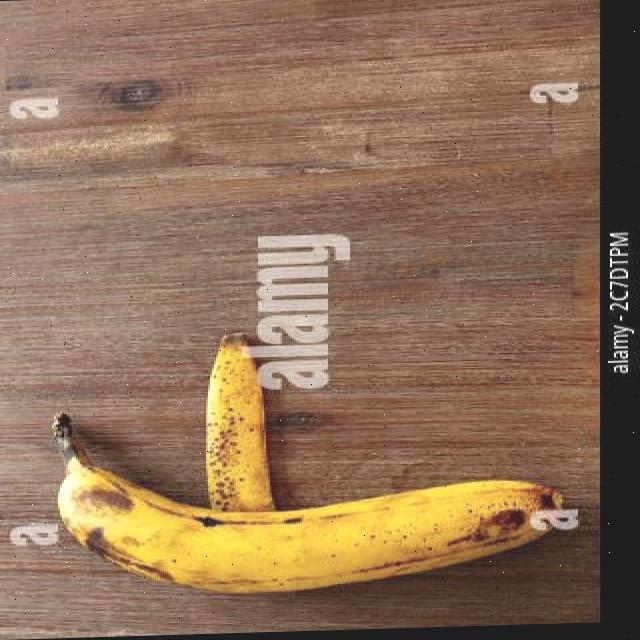banana: (44, 397, 572, 605), (198, 323, 288, 581)
